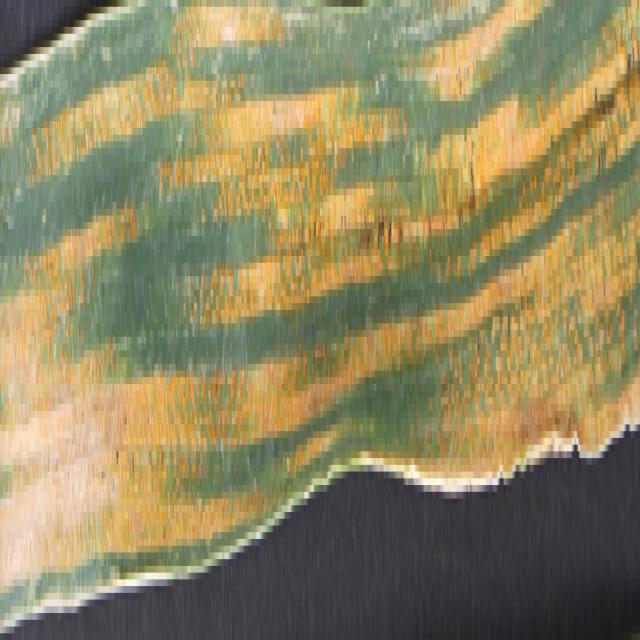leaf rust: (1, 7, 639, 600)
